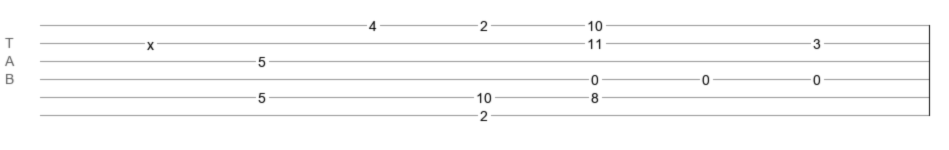0: (591, 72, 599, 82), (702, 72, 710, 82), (813, 72, 821, 82)
10: (476, 90, 492, 100), (587, 18, 603, 28)
11: (587, 36, 603, 46)
2: (480, 108, 488, 118), (480, 18, 488, 28)
3: (813, 36, 821, 46)
4: (369, 18, 377, 28)
5: (258, 54, 266, 64), (258, 90, 266, 100)
8: (591, 90, 599, 100)
x: (147, 37, 154, 45)
